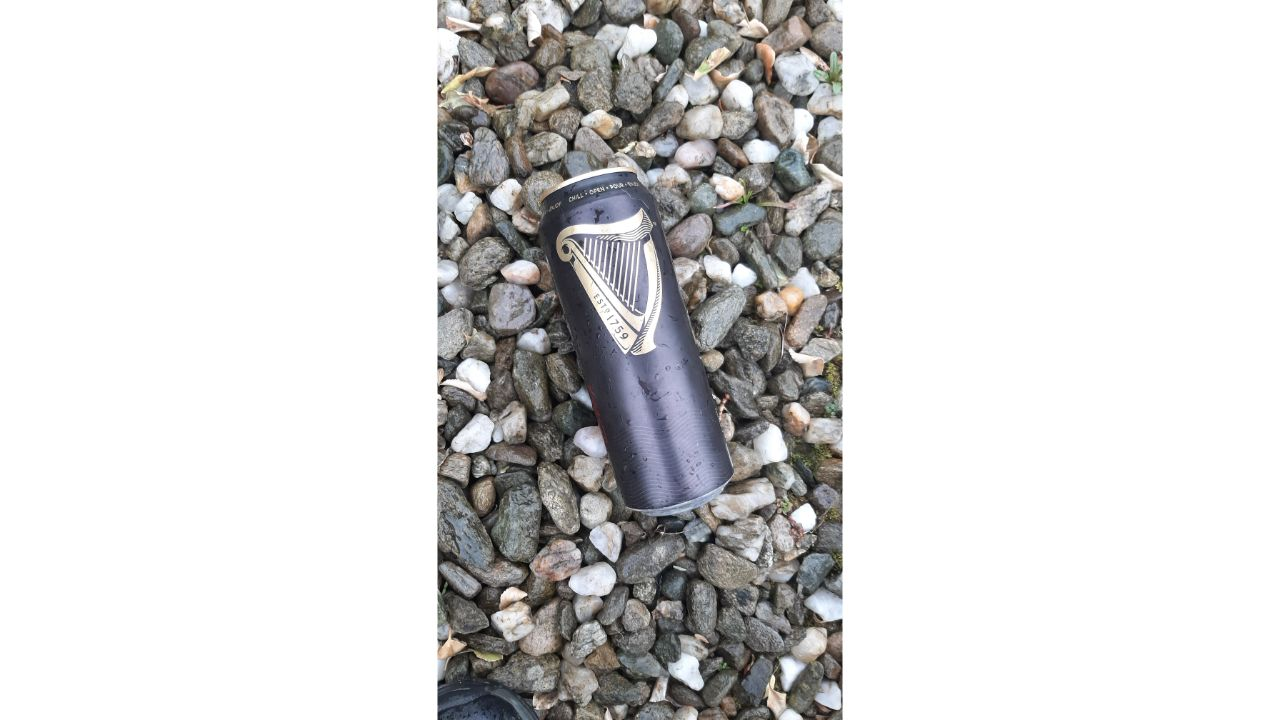Can: (523, 149, 748, 538)
